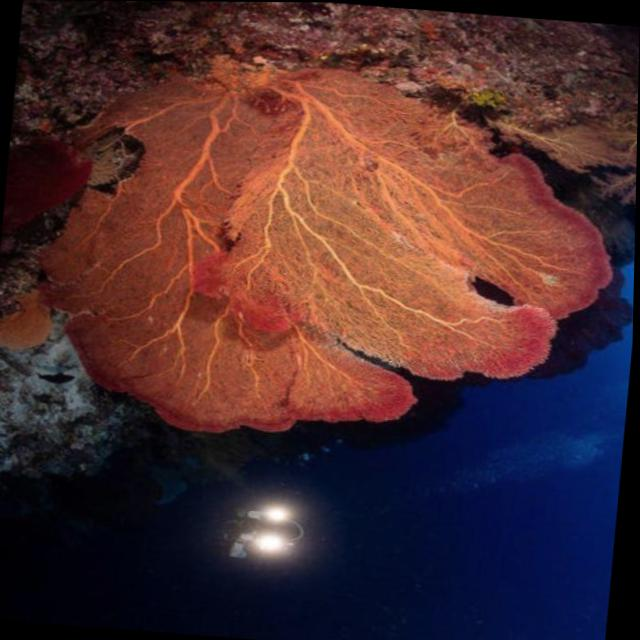Healthy Coral: (30, 1, 640, 480)
